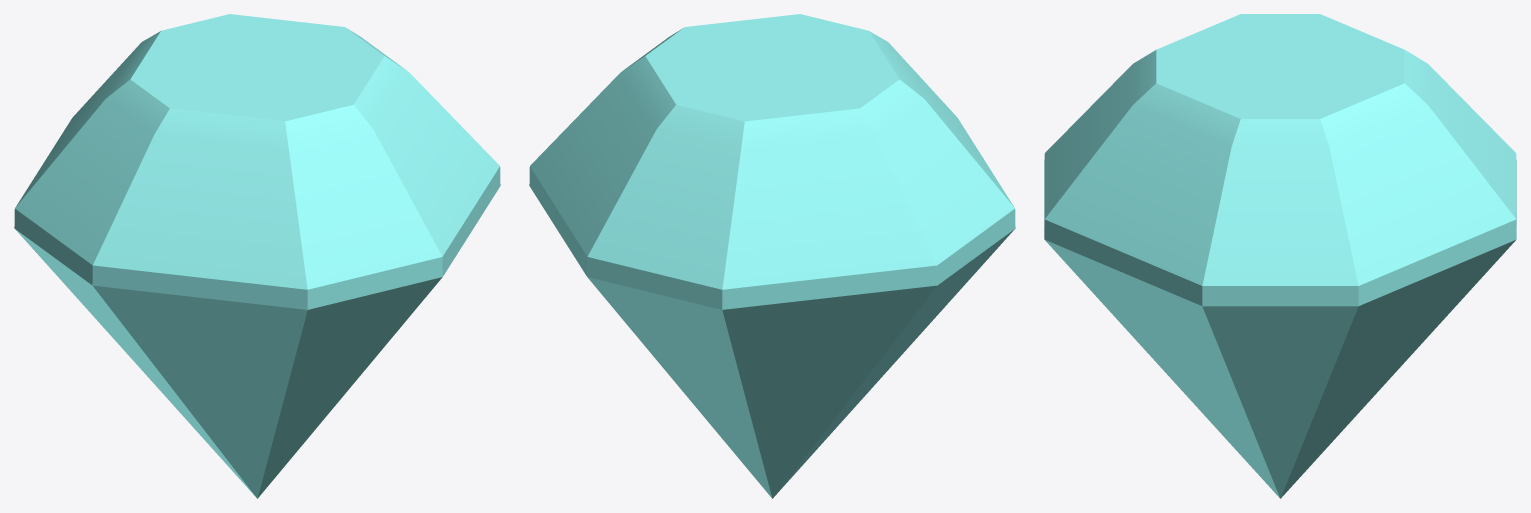
Rendered from Gem.obj.
The picture shows the model from 3 angles, left to right: view 1: azimuth 30°, elevation 25°; view 2: azimuth 150°, elevation 25°; view 3: azimuth 270°, elevation 25°; orthographic projection.
Visible parts, largest first — view 1: Gem_Green_Cube.281; view 2: Gem_Green_Cube.281; view 3: Gem_Green_Cube.281.
Boxes of the visible parts, x1,y1,x2,y2 form: Gem_Green_Cube.281: (14,14,500,498); Gem_Green_Cube.281: (529,14,1015,498); Gem_Green_Cube.281: (1044,14,1516,498).
Bounding box in the file's own units: 2.99 × 3.02 × 2.99.
1 material, 1 textured.
